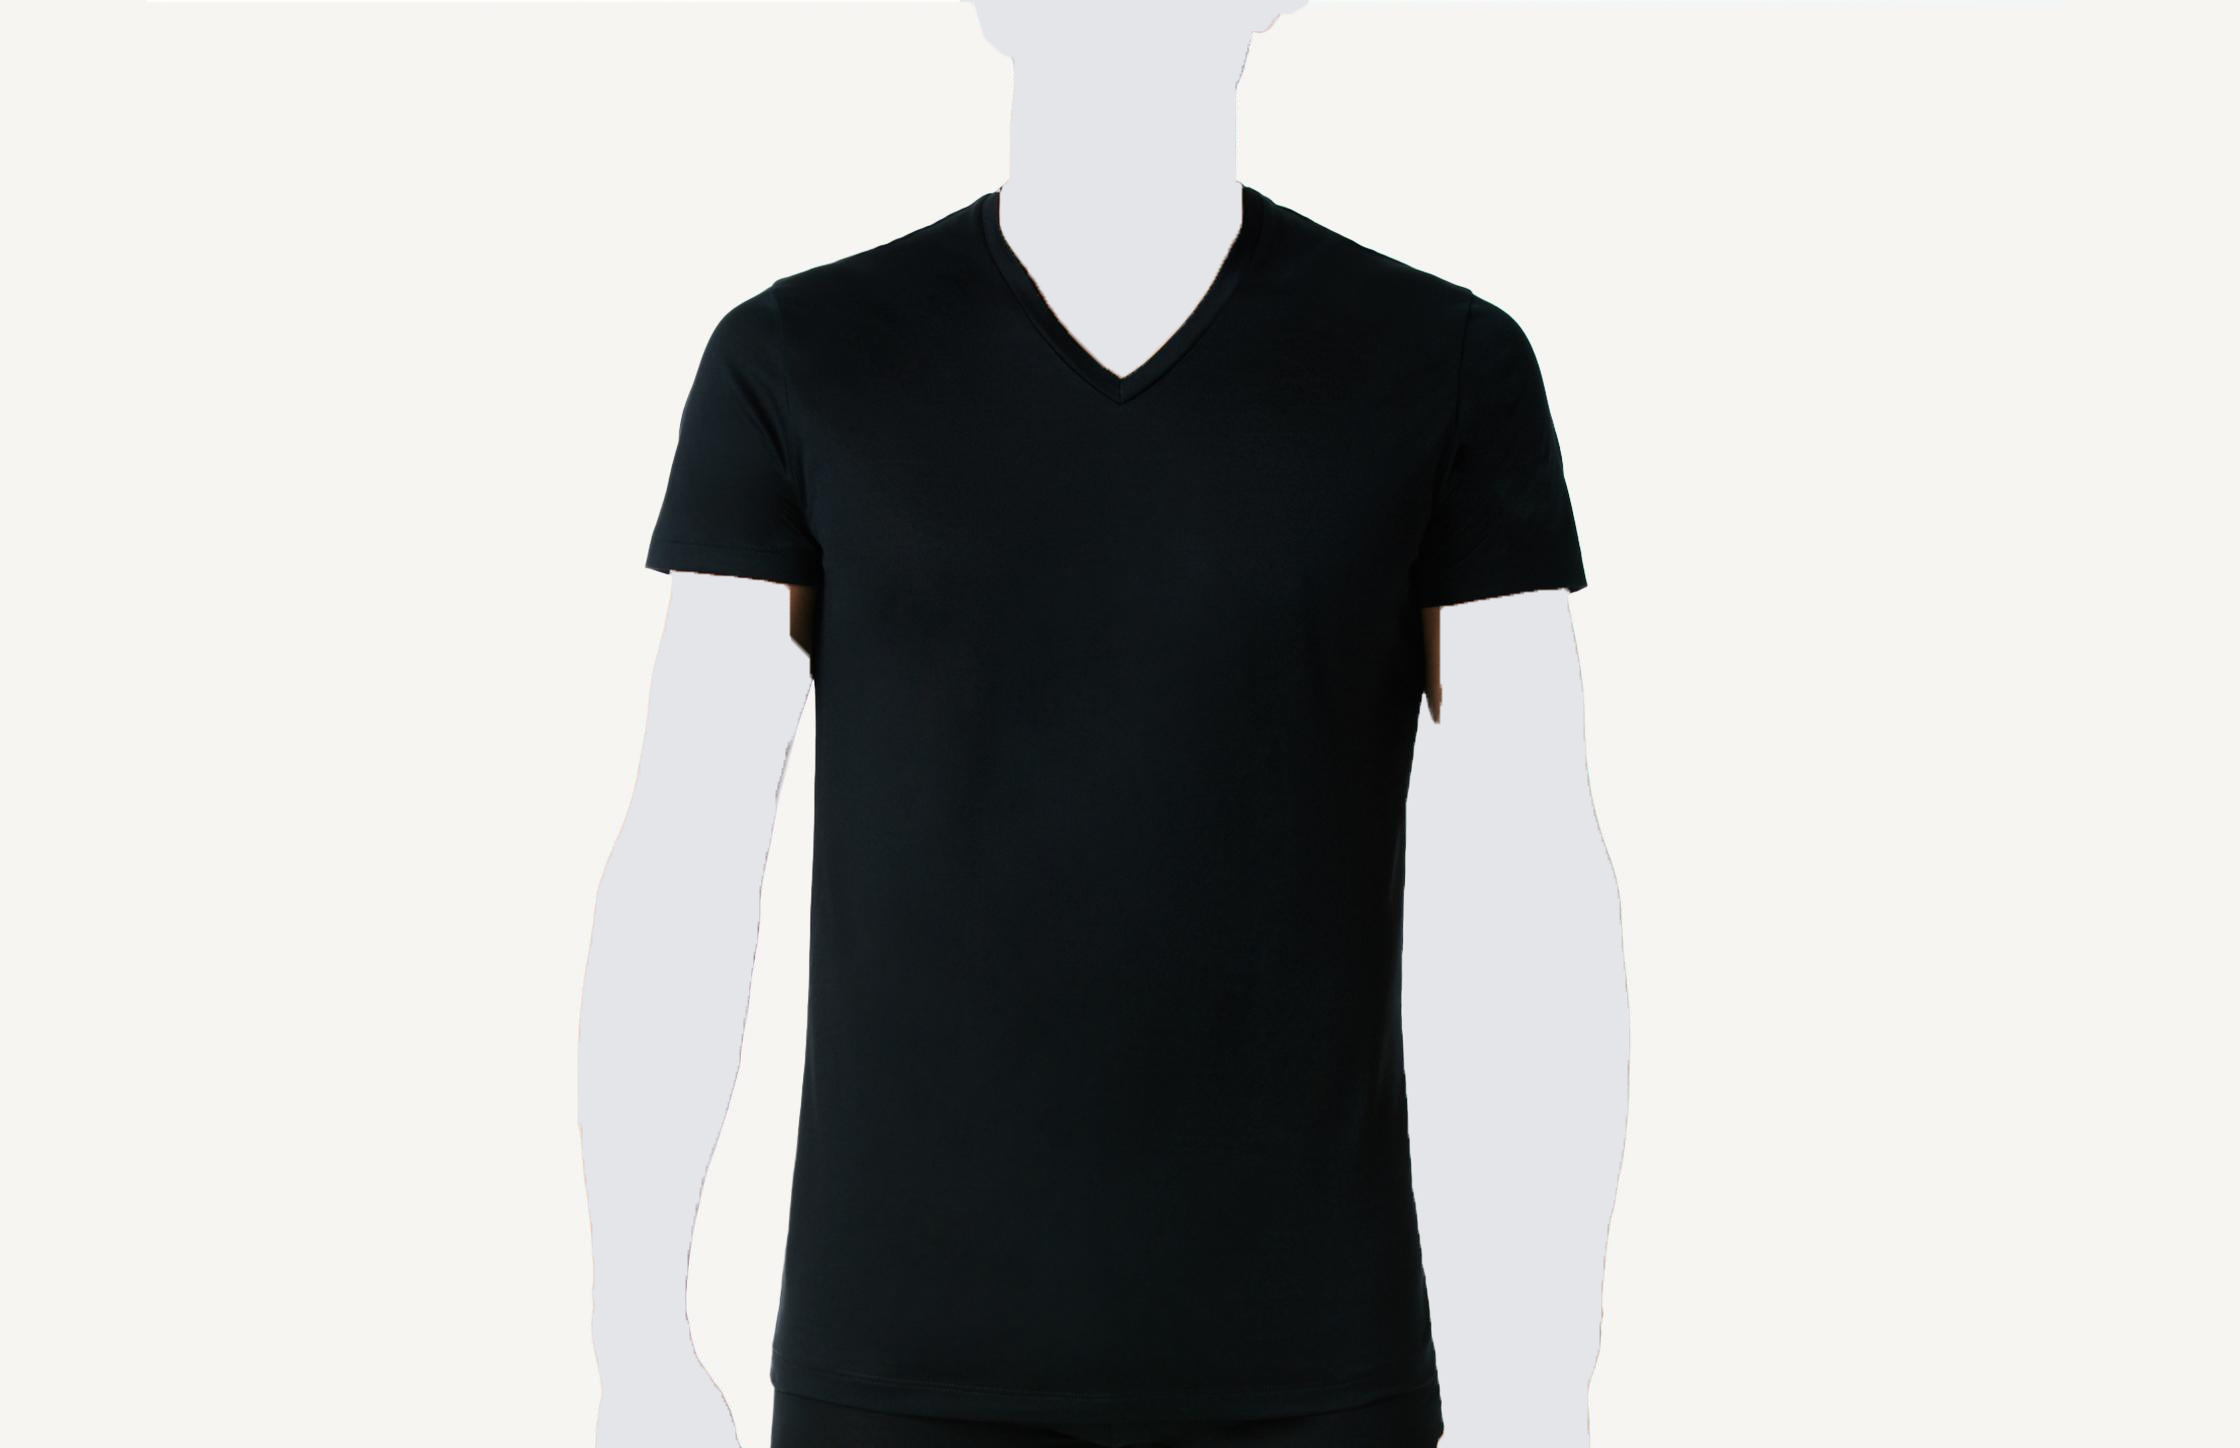teeshirt: (632, 171, 1602, 1448)
